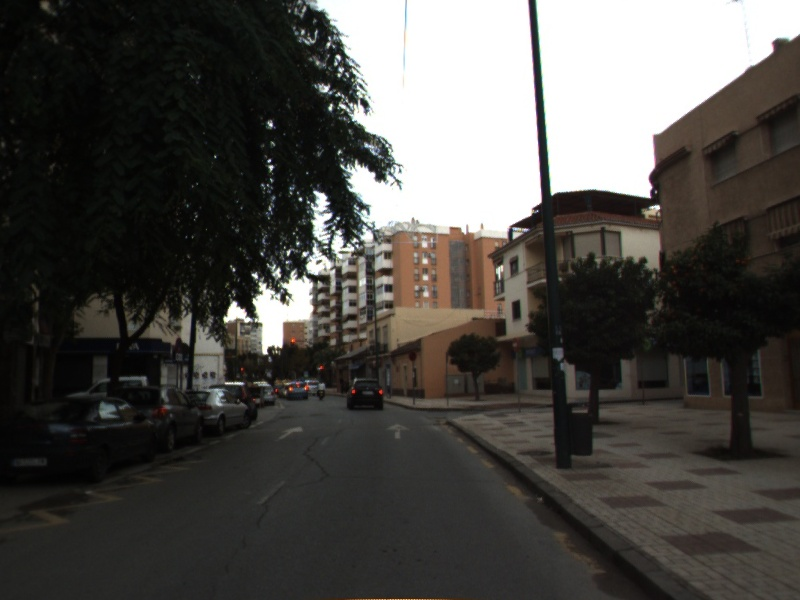STRAIGHT: (384, 421, 413, 441), (277, 424, 306, 442)
